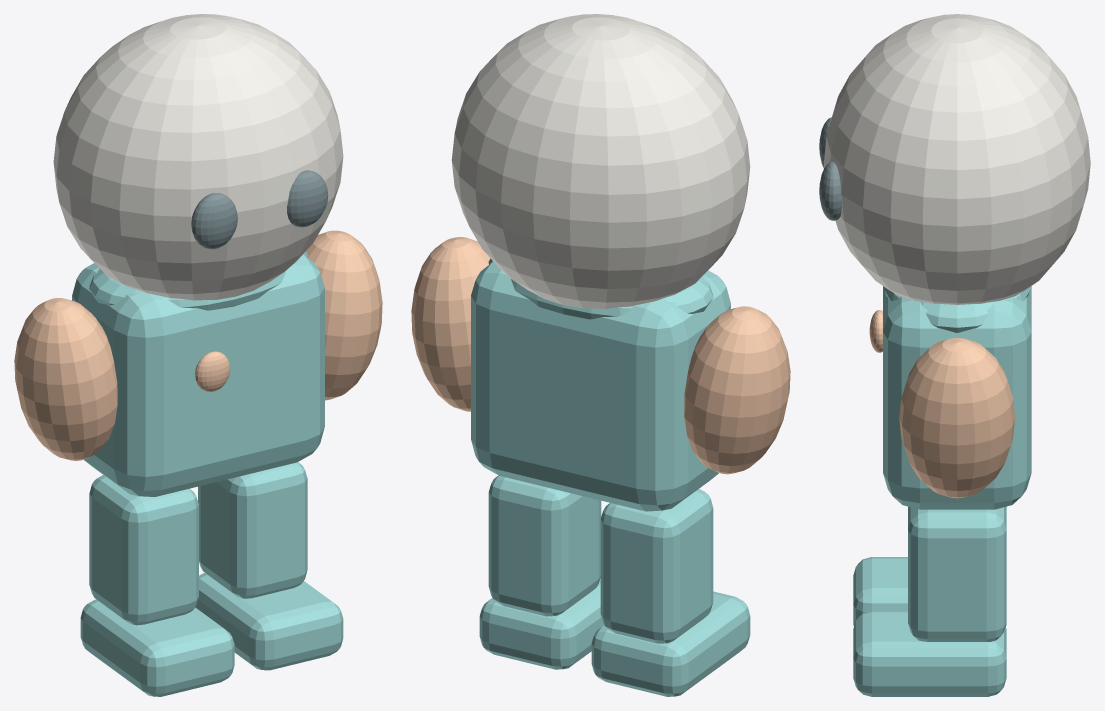
Rendered from image-model.glb.
3 renders of one model, left to right at view 1: azimuth 30°, elevation 25°; view 2: azimuth 150°, elevation 25°; view 3: azimuth 270°, elevation 25°, orthographic. The views are drawn at different scales.
Visible parts, largest first — view 1: Large faceted ivory head, Rounded aqua torso, Left short aqua leg, Left peach oval arm, Right short aqua leg, Left broad aqua foot, Right broad aqua foot, Right peach oval arm, Aqua rounded shoulder collar, Left dark oval eye, Right dark oval eye, Small peach chest button; view 2: Large faceted ivory head, Rounded aqua torso, Left short aqua leg, Left peach oval arm, Right short aqua leg, Left broad aqua foot, Right peach oval arm, Right broad aqua foot, Aqua rounded shoulder collar; view 3: Large faceted ivory head, Rounded aqua torso, Right peach oval arm, Right short aqua leg, Right broad aqua foot, Left broad aqua foot, Aqua rounded shoulder collar, Right dark oval eye, Small peach chest button.
Part boxes in pixels (x1,y1,x2,y2): Large faceted ivory head: [53, 14, 343, 300]; Rounded aqua torso: [72, 254, 324, 496]; Left short aqua leg: [89, 475, 198, 625]; Left peach oval arm: [14, 298, 117, 460]; Right short aqua leg: [198, 462, 307, 598]; Left broad aqua foot: [80, 599, 234, 696]; Right broad aqua foot: [195, 573, 343, 670]; Right peach oval arm: [306, 230, 382, 400]; Aqua rounded shoulder collar: [89, 251, 307, 310]; Left dark oval eye: [191, 193, 237, 249]; Right dark oval eye: [287, 170, 328, 227]; Small peach chest button: [195, 351, 230, 391]; Large faceted ivory head: [451, 14, 750, 308]; Rounded aqua torso: [471, 261, 730, 511]; Left short aqua leg: [600, 489, 713, 643]; Left peach oval arm: [684, 306, 790, 474]; Right short aqua leg: [488, 475, 601, 616]; Left broad aqua foot: [591, 591, 750, 696]; Right peach oval arm: [411, 237, 490, 411]; Right broad aqua foot: [479, 578, 603, 669]; Aqua rounded shoulder collar: [488, 258, 713, 319]; Large faceted ivory head: [824, 14, 1090, 304]; Rounded aqua torso: [883, 286, 1031, 509]; Right peach oval arm: [899, 337, 1015, 498]; Right short aqua leg: [908, 507, 1006, 641]; Right broad aqua foot: [853, 610, 1006, 696]; Left broad aqua foot: [853, 557, 1006, 626]; Aqua rounded shoulder collar: [884, 286, 1030, 332]; Right dark oval eye: [819, 161, 841, 220]; Small peach chest button: [869, 310, 882, 352].
Size of the model in its own units: 1.88 by 3.16 by 1.24.
